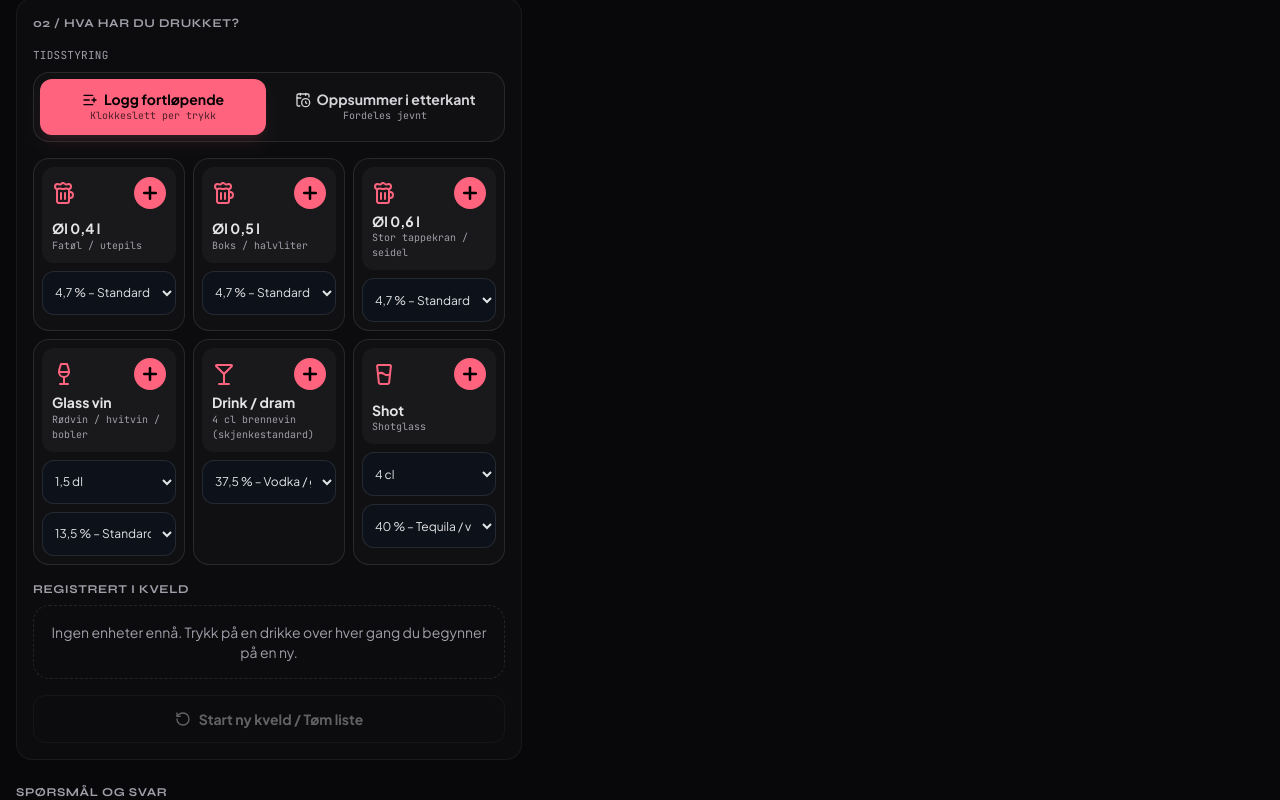
Scenario: Ny kveld og planlagte enheter › viser en enhet frem i tid som «Planlagt», ikke «Drikker nå» (QA Q4)
(page scrolled)
Click the button named "Legg til Glass vin" at [109, 400], box [42,348,176,452]
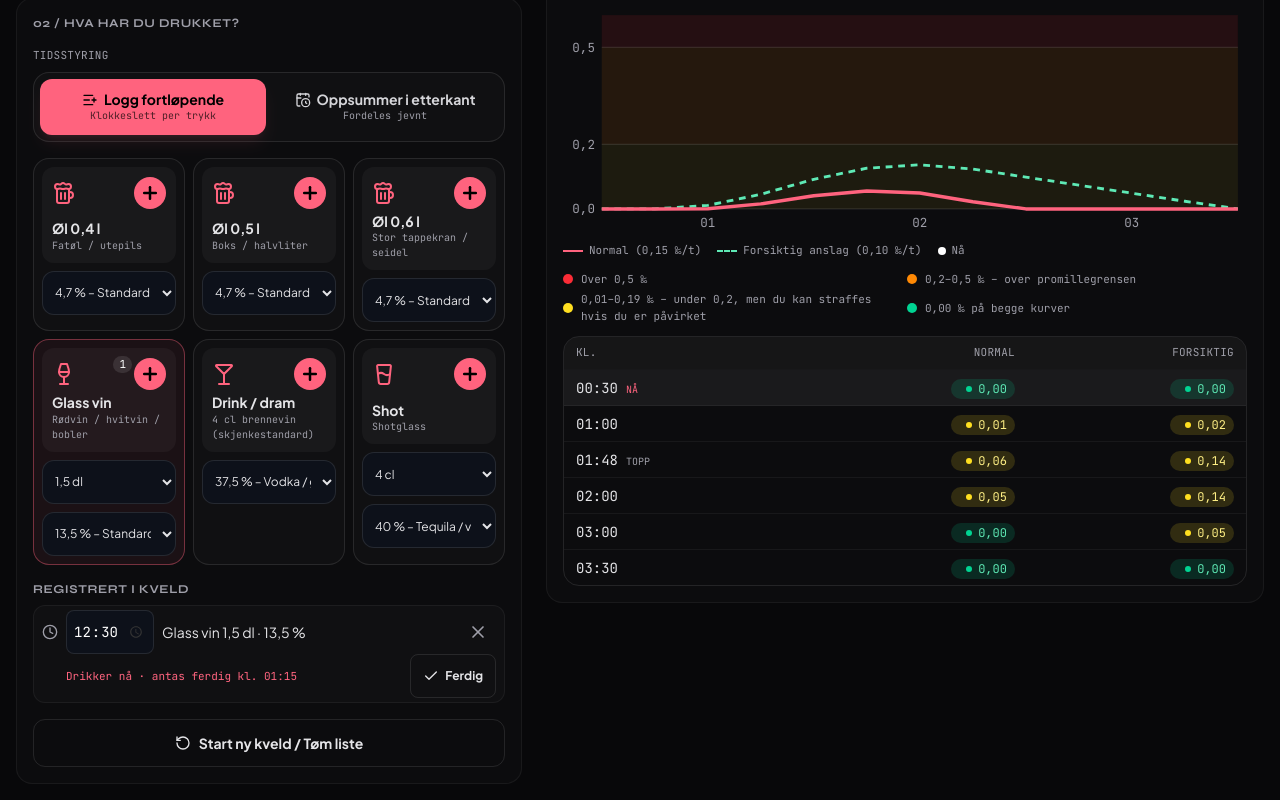
Replace the text in the time field named "Klokkeslett for Glass vin" with "02:00" at [110, 632], box [66,610,154,654]
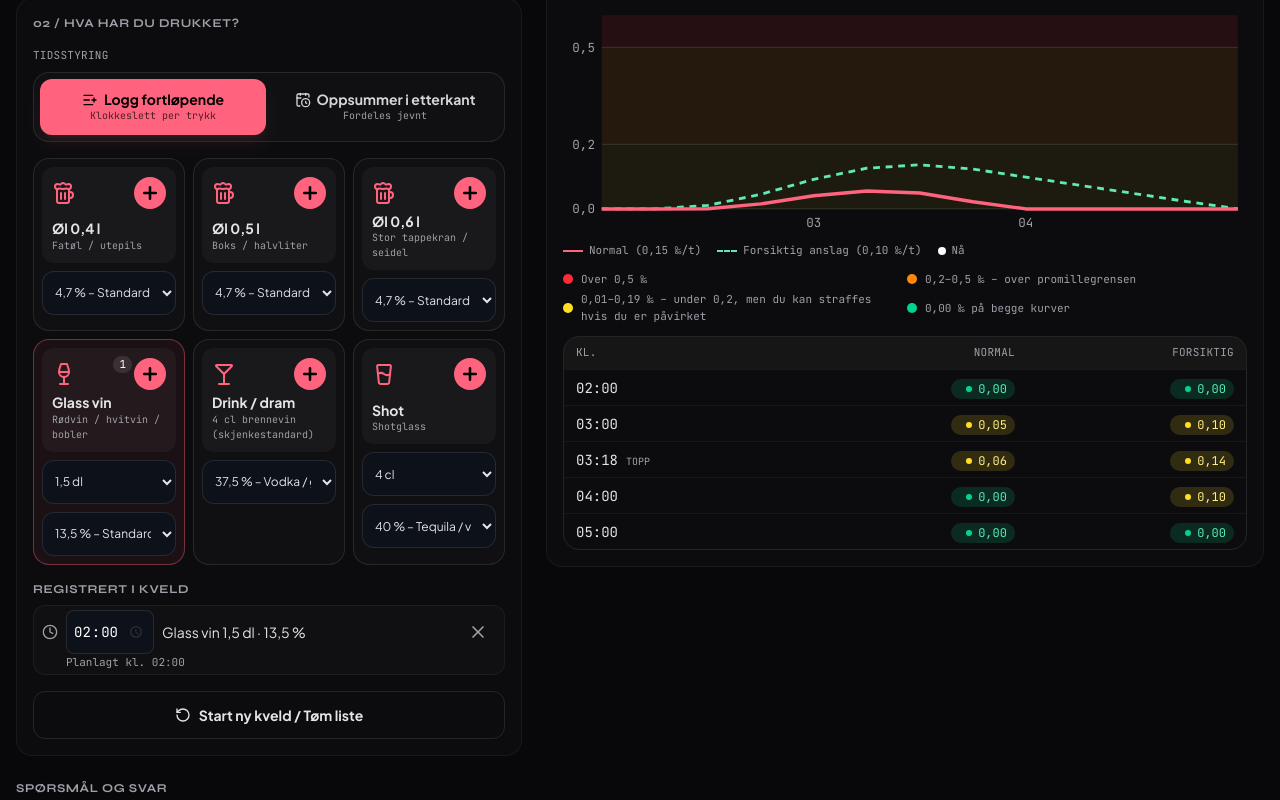
expect the text "Planlagt kl. 02:00" is shown: met, box [66,654,185,670]
expect the text "Drikker nå" is gone: met
